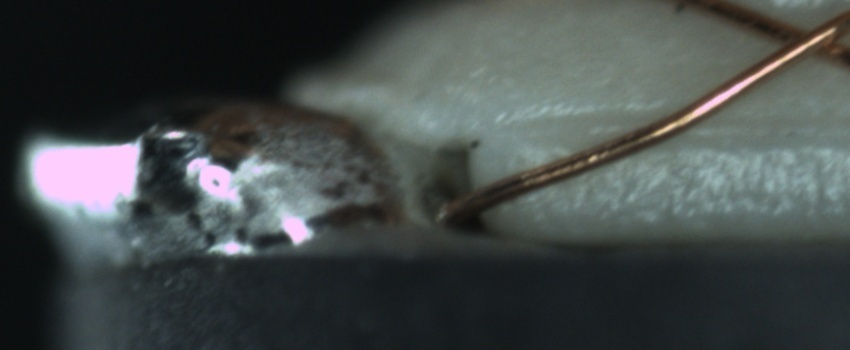CL: (750, 4, 846, 71)
DL: (517, 92, 844, 162)
